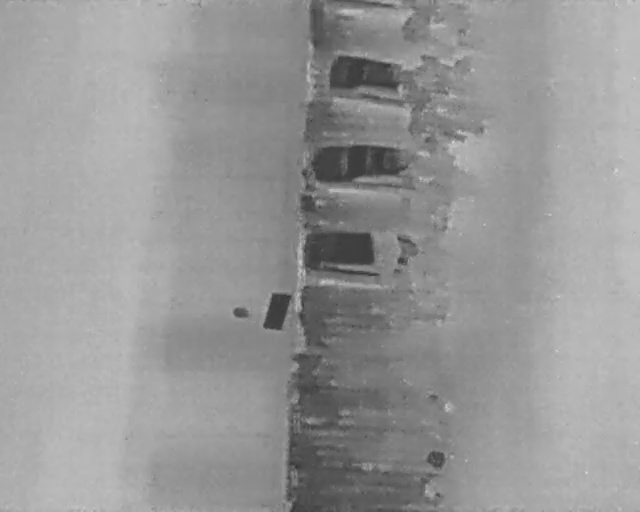Car: (296, 223, 429, 288), (324, 50, 448, 111), (310, 142, 436, 191)
